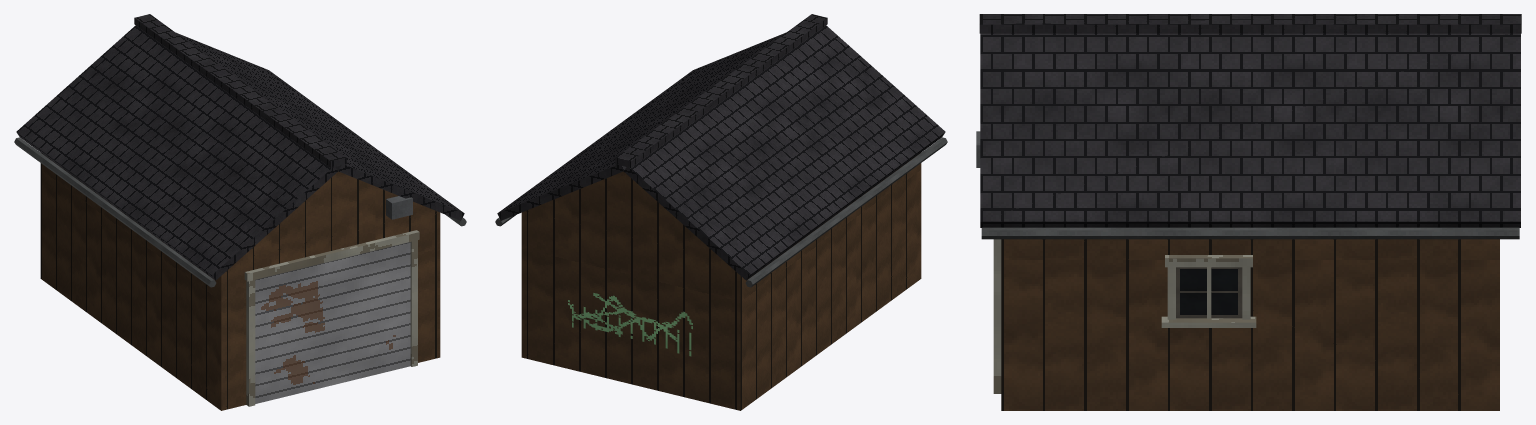
File: town_garage.glb
3 views of the same model, side by side, from view 1: azimuth 30°, elevation 25°; view 2: azimuth 150°, elevation 25°; view 3: azimuth 270°, elevation 25° (orthographic). The views are drawn at different scales.
Visible parts, largest first — view 1: detail, shell-col; view 2: detail, shell-col; view 3: detail, shell-col.
Boxes of the visible parts, x1=… form: detail: x1=14, y1=14, x2=466, y2=406; shell-col: x1=40, y1=155, x2=440, y2=410; detail: x1=495, y1=14, x2=947, y2=356; shell-col: x1=521, y1=155, x2=921, y2=410; detail: x1=976, y1=14, x2=1521, y2=393; shell-col: x1=1001, y1=239, x2=1499, y2=410.
Size of what is drawn, in the model's own units: 4.94 by 4.22 by 6.56.
8 materials, 8 textured.
